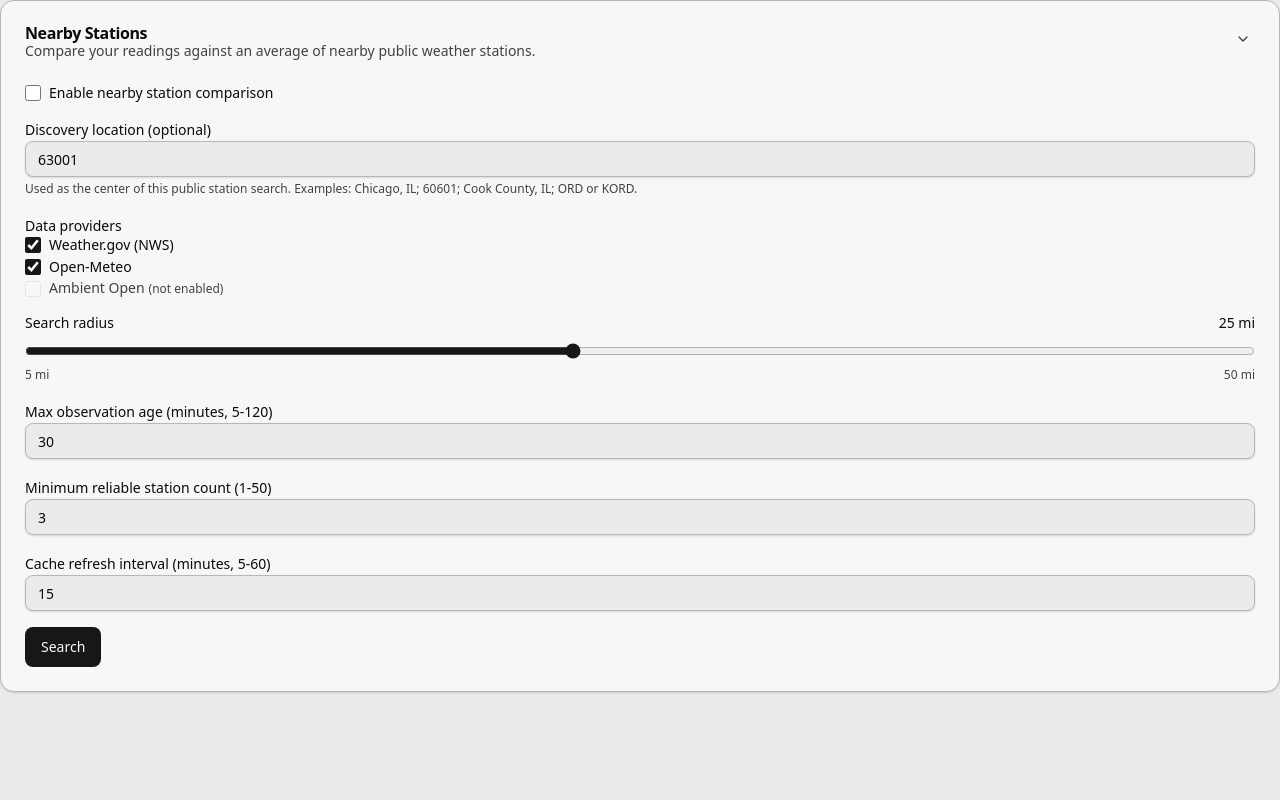
NeighborsConfigPanel › shows error message on search save failure
The width and height of the screenshot is (1280, 800).
Click the button with test id "settings-neighbors-search-button": coordinates (63, 647) 25,627 -> 101,667
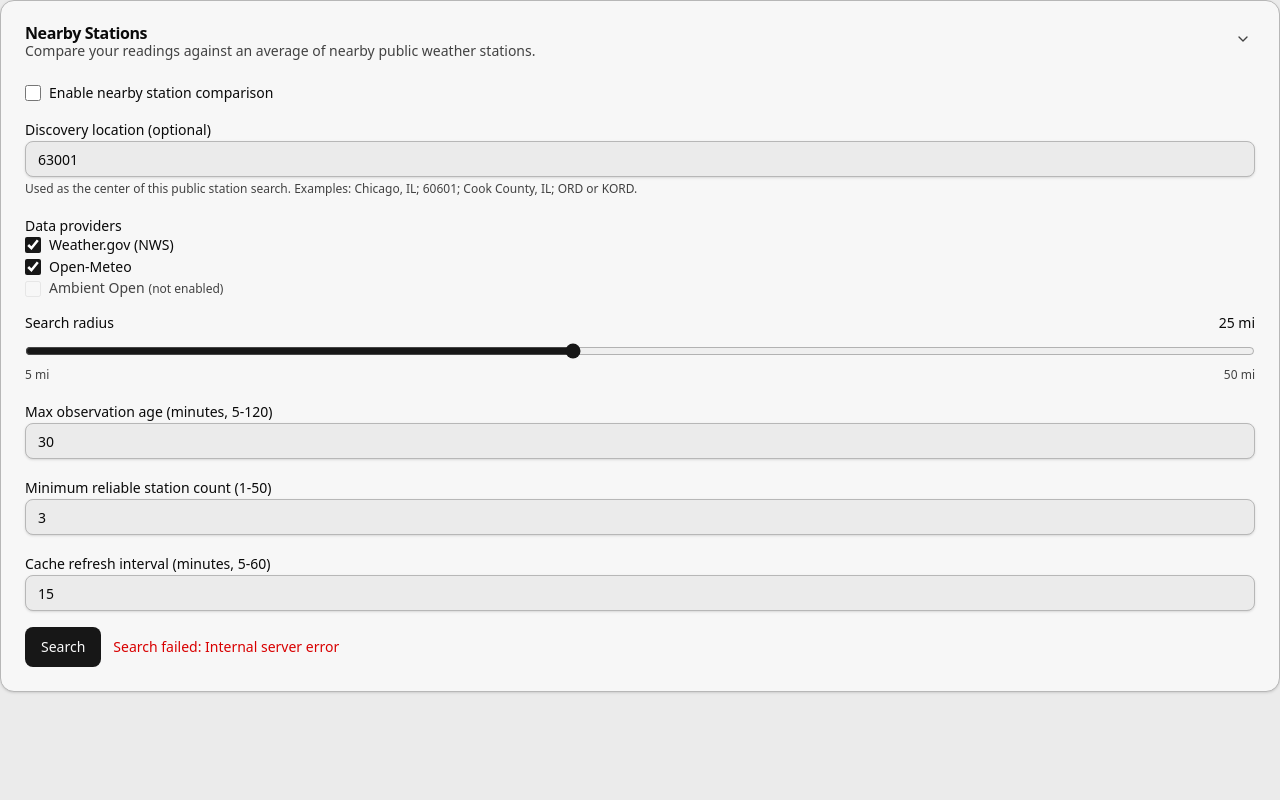
Expected: the message "Search failed: Internal server error" is shown, 113,637 -> 339,657
